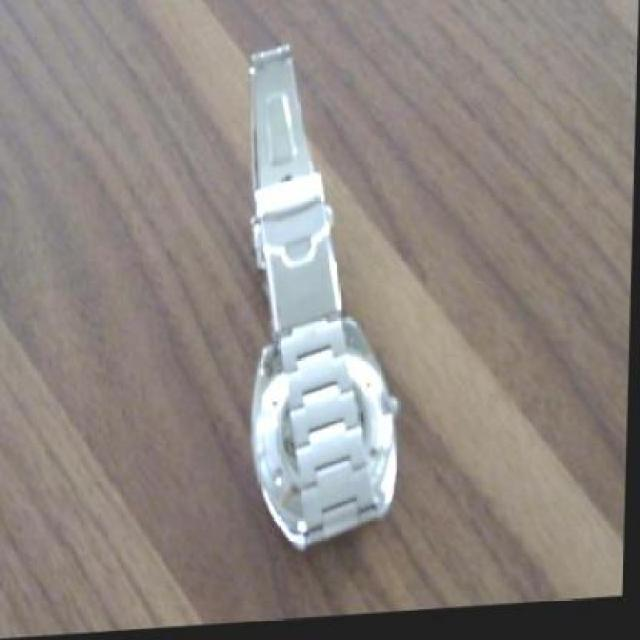Metal: (242, 38, 406, 555)
